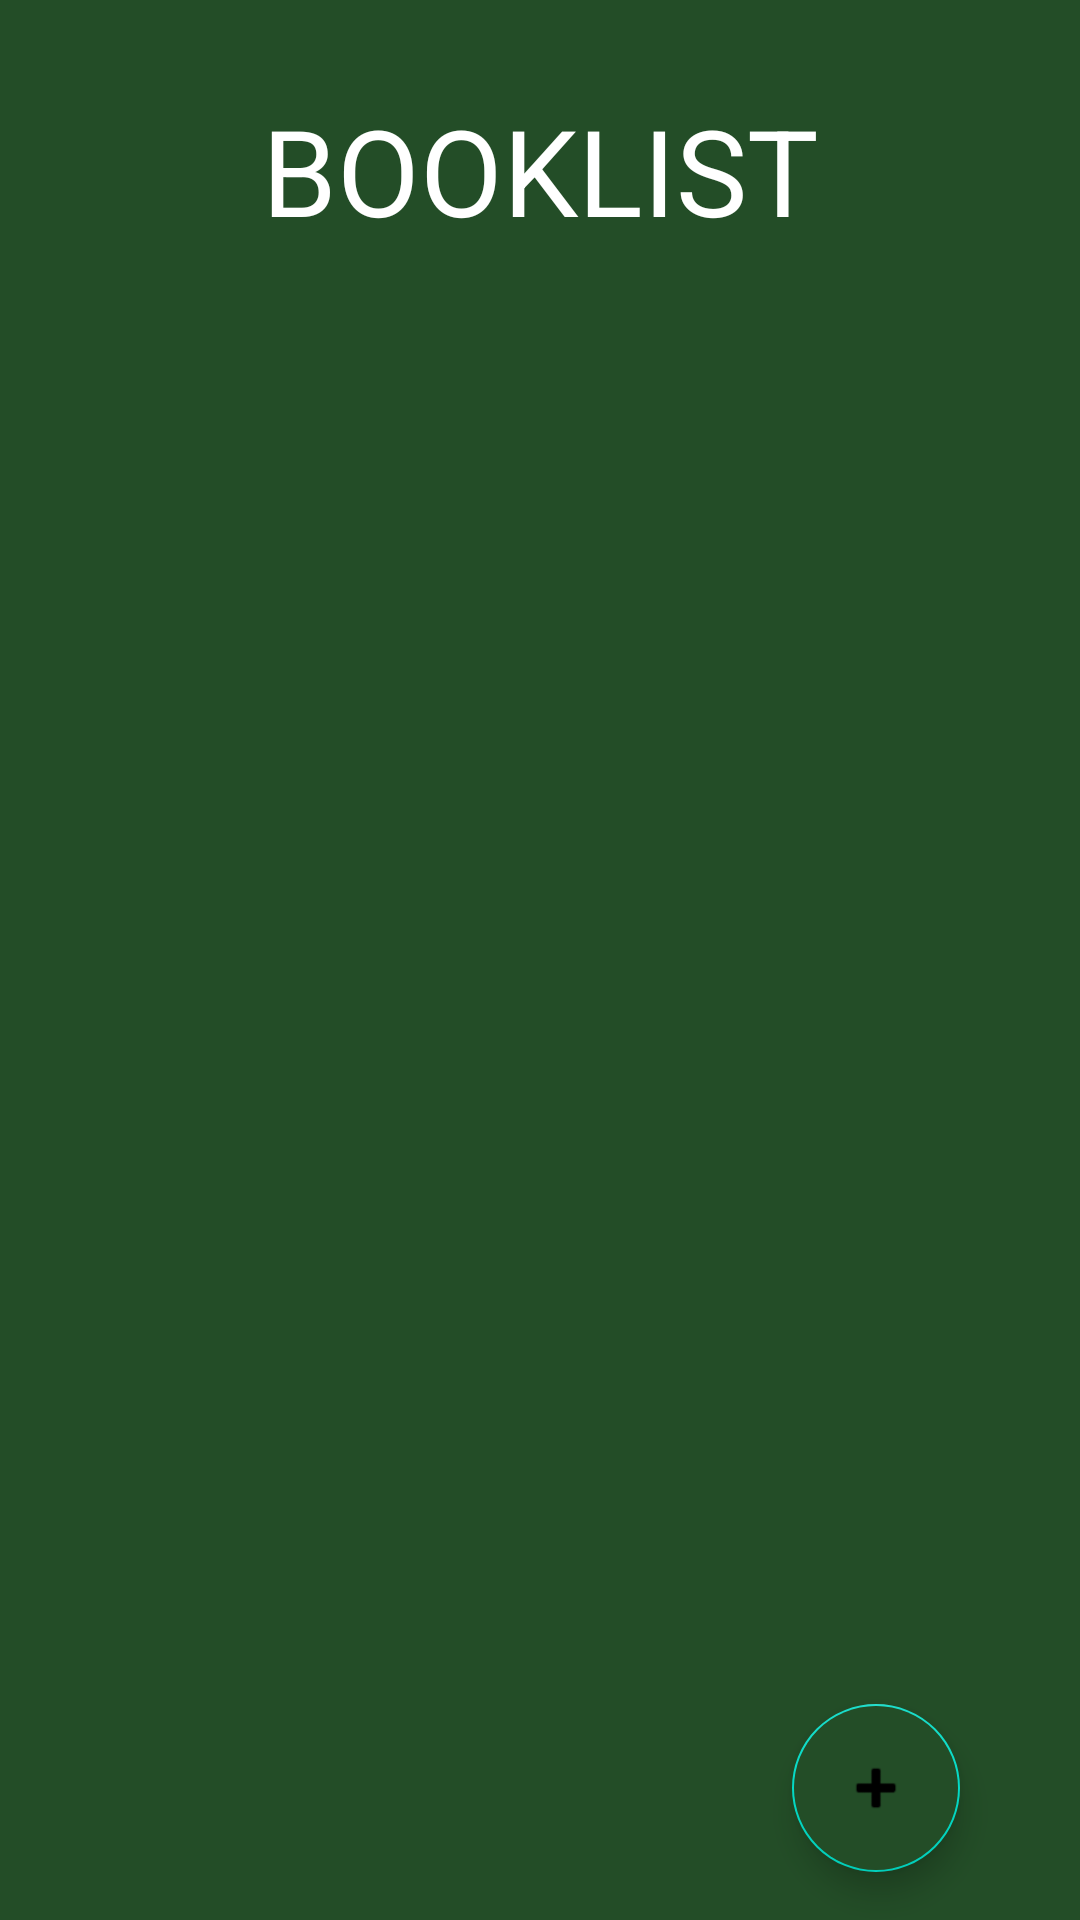

Locate icon controls on the screen. Image size 1080w x 1920h, boxes as (x1, y1, x2, y2).
add: (792, 1704, 960, 1872)
